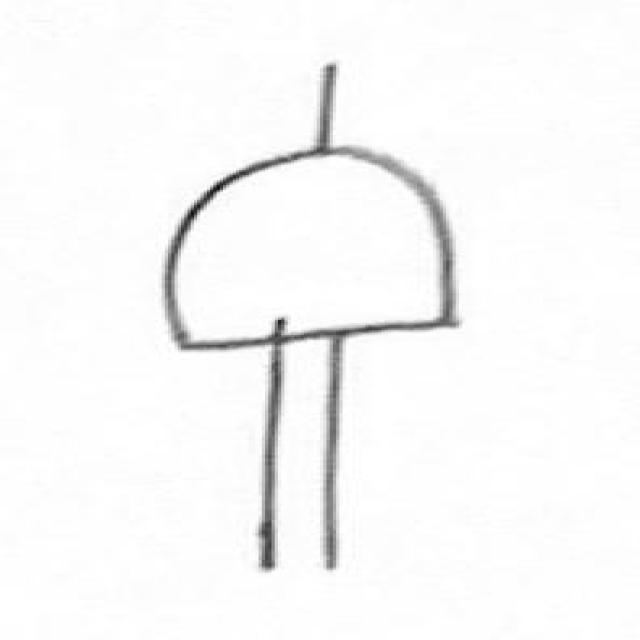AND: (127, 122, 559, 389)
